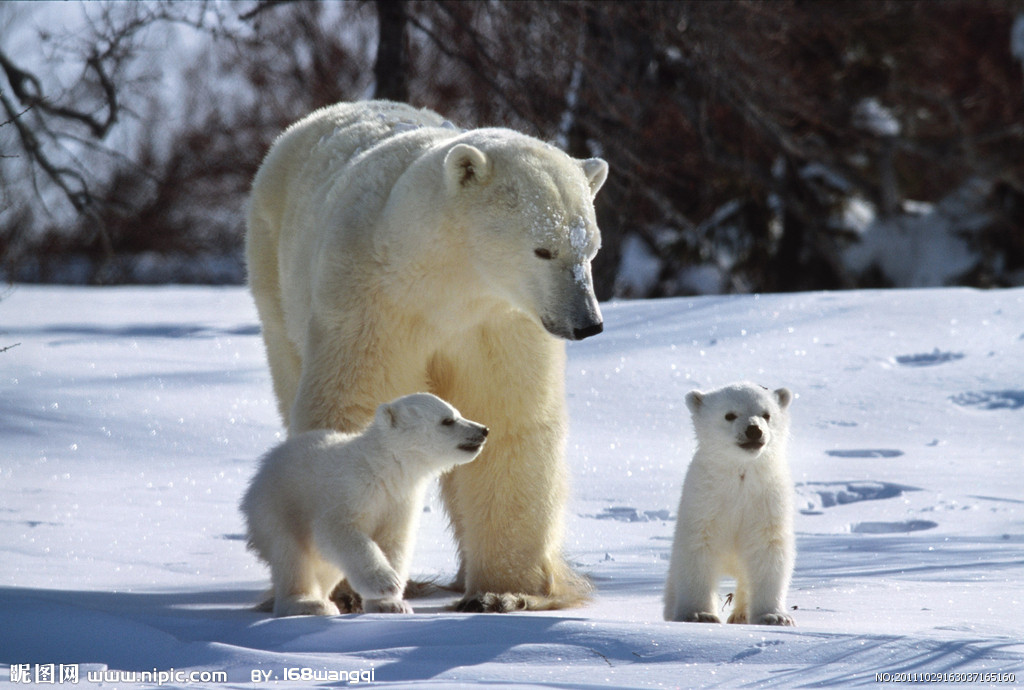bear: (243, 95, 612, 611), (231, 393, 489, 612), (662, 380, 806, 624)
